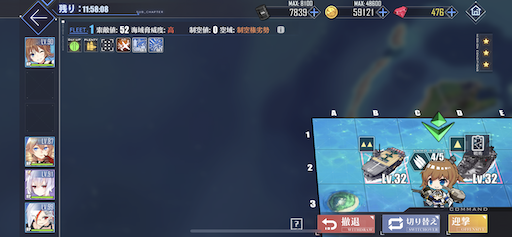lv1: (448, 131, 505, 185)
lv2: (355, 135, 406, 185)
